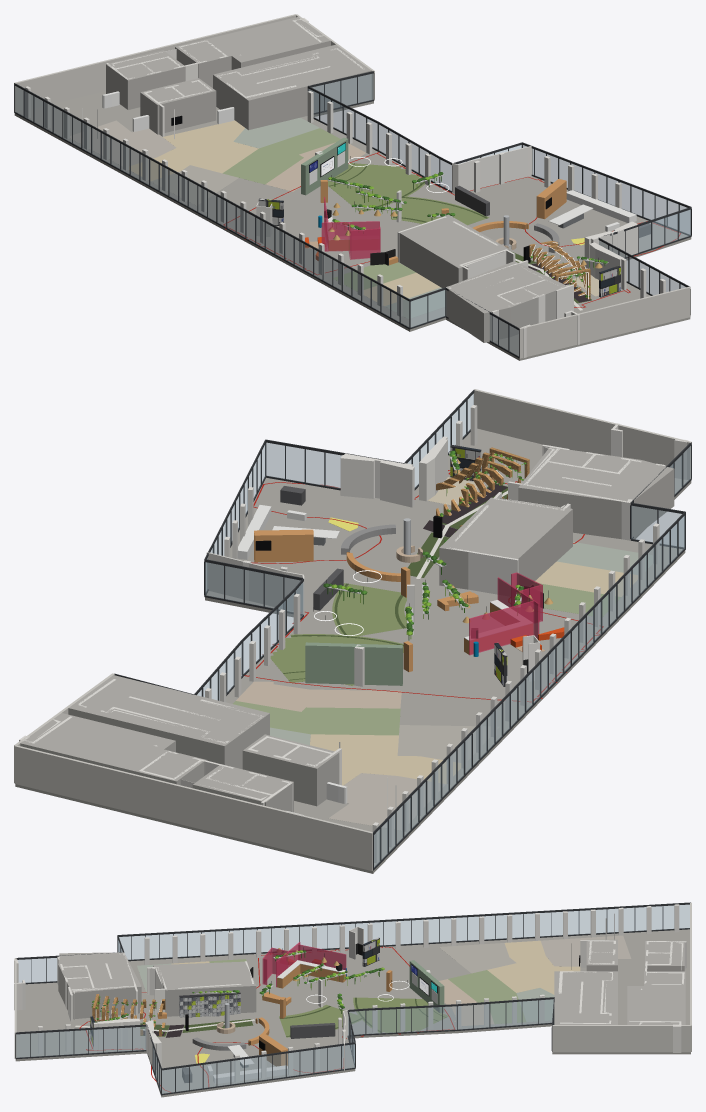
Rendered from lieu-574.glb.
3 views of the same model, one above another, from view 1: azimuth 30°, elevation 25°; view 2: azimuth 150°, elevation 25°; view 3: azimuth 270°, elevation 25° (orthographic). The views are drawn at different scales.
Visible parts, largest first — view 1: Noyaux_asc_escaliers_sanitaires, Facades_vitrees, Dalle_R+3, Sols_zones_bureaux, Murs_poteaux, Limites_du_plan, Mobilier_fixe, Hub_moquette_verte, Cloison_bureau, Salle_verre_rose, Tunnel_entree_cadres_OSB, Jardinieres_suspendues (+3 smaller); view 2: Noyaux_asc_escaliers_sanitaires, Dalle_R+3, Facades_vitrees, Limites_du_plan, Sols_zones_bureaux, Murs_poteaux, Mobilier_fixe, Hub_moquette_verte, Salle_verre_rose, Cloison_bureau, Moquettes_evenement, Tunnel_entree_cadres_OSB (+2 smaller); view 3: Facades_vitrees, Dalle_R+3, Noyaux_asc_escaliers_sanitaires, Murs_poteaux, Sols_zones_bureaux, Mobilier_fixe, Limites_du_plan, Hub_moquette_verte, Salle_verre_rose, Casiers, Jardinieres_suspendues, Tunnel_entree_cadres_OSB (+3 smaller).
Boxes of the visible parts, x1,y1,x2,y2 form: Noyaux_asc_escaliers_sanitaires: [106, 17, 566, 342]; Facades_vitrees: [14, 71, 691, 358]; Dalle_R+3: [14, 91, 691, 360]; Sols_zones_bureaux: [70, 117, 445, 318]; Murs_poteaux: [25, 18, 665, 357]; Limites_du_plan: [14, 14, 690, 358]; Mobilier_fixe: [102, 91, 650, 296]; Hub_moquette_verte: [328, 163, 489, 225]; Cloison_bureau: [452, 145, 532, 193]; Salle_verre_rose: [321, 197, 380, 259]; Tunnel_entree_cadres_OSB: [529, 241, 590, 299]; Jardinieres_suspendues: [327, 172, 608, 269]; Noyaux_asc_escaliers_sanitaires: [20, 447, 674, 812]; Dalle_R+3: [15, 428, 691, 873]; Facades_vitrees: [114, 389, 691, 870]; Limites_du_plan: [14, 389, 691, 870]; Sols_zones_bureaux: [233, 542, 652, 830]; Murs_poteaux: [19, 405, 687, 863]; Mobilier_fixe: [237, 486, 564, 815]; Hub_moquette_verte: [270, 583, 406, 685]; Salle_verre_rose: [469, 572, 542, 655]; Cloison_bureau: [206, 552, 304, 616]; Moquettes_evenement: [407, 477, 507, 579]; Tunnel_entree_cadres_OSB: [436, 447, 529, 526]; Facades_vitrees: [15, 902, 690, 1095]; Dalle_R+3: [15, 929, 690, 1097]; Noyaux_asc_escaliers_sanitaires: [58, 939, 685, 1024]; Murs_poteaux: [14, 904, 686, 1082]; Sols_zones_bureaux: [137, 935, 631, 1025]; Mobilier_fixe: [157, 943, 580, 1083]; Limites_du_plan: [14, 902, 691, 1058]; Hub_moquette_verte: [279, 997, 448, 1037]; Salle_verre_rose: [262, 942, 346, 987]; Casiers: [179, 994, 240, 1017]; Jardinieres_suspendues: [105, 947, 384, 1020]; Tunnel_entree_cadres_OSB: [92, 994, 165, 1036].
Size of the model in its own units: 37.72 by 3.05 by 64.92.
Materials: 49 (6 with a texture image).
